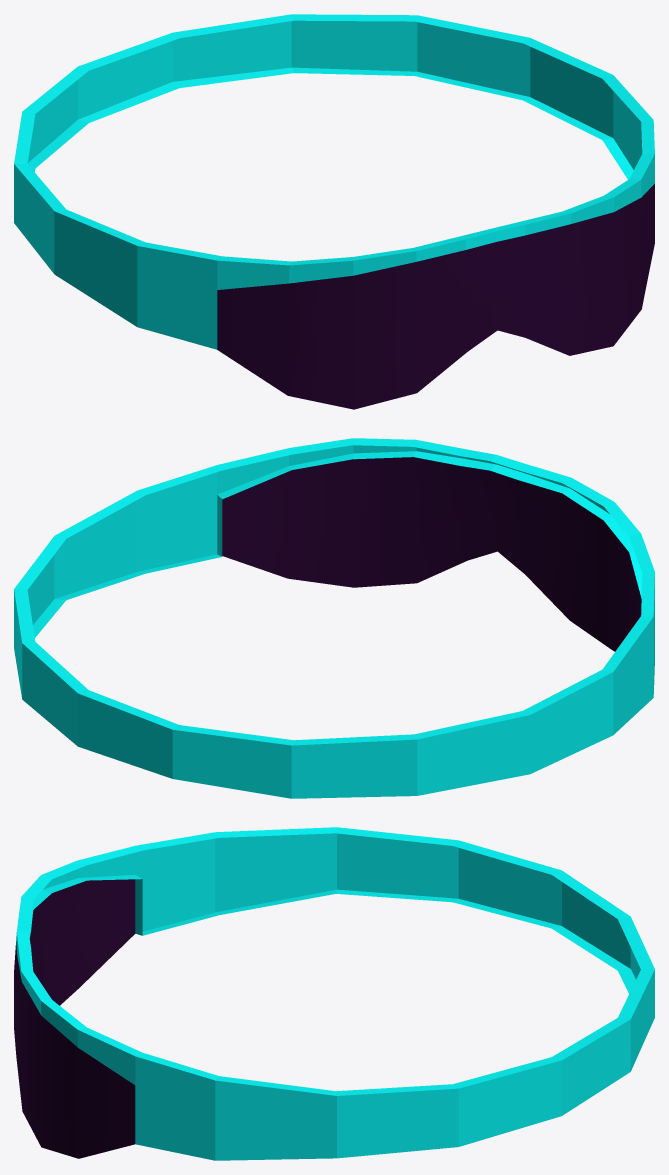
File: char_glasses.fbx
3 views of the same model, one above another, from view 1: azimuth 30°, elevation 25°; view 2: azimuth 150°, elevation 25°; view 3: azimuth 270°, elevation 25° (orthographic).
Parts seen in each view (by area): view 1: Circle, Circle.001; view 2: Circle, Circle.001; view 3: Circle, Circle.001.
Part boxes in pixels (x1,y1,x2,y2): Circle: (14, 14, 654, 349); Circle.001: (217, 183, 654, 409); Circle: (14, 438, 654, 798); Circle.001: (222, 457, 641, 651); Circle: (16, 827, 654, 1160); Circle.001: (14, 879, 135, 1158).
Bounding box in the file's own units: 74.95 × 19.94 × 75.53.
